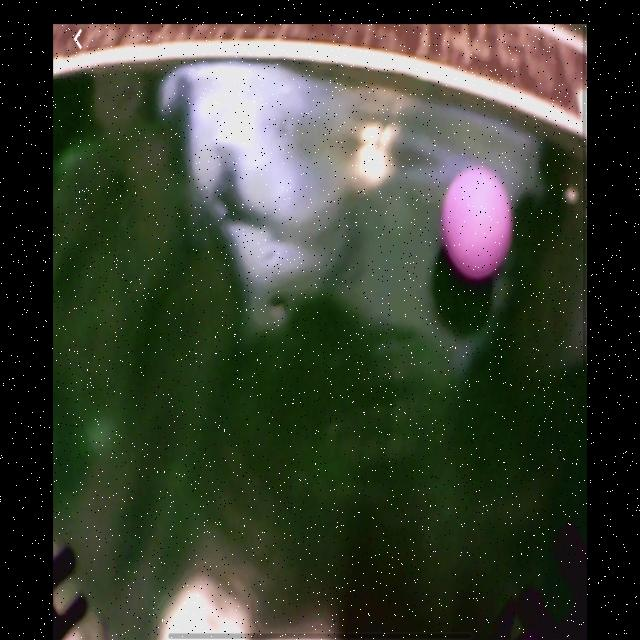ball: (443, 165, 514, 286)
